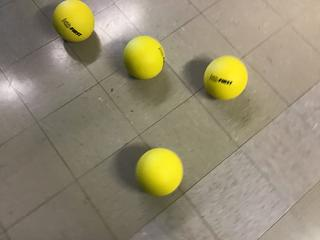power_cell: (135, 145, 185, 198), (202, 54, 251, 102), (121, 35, 169, 82), (52, 1, 96, 44)
